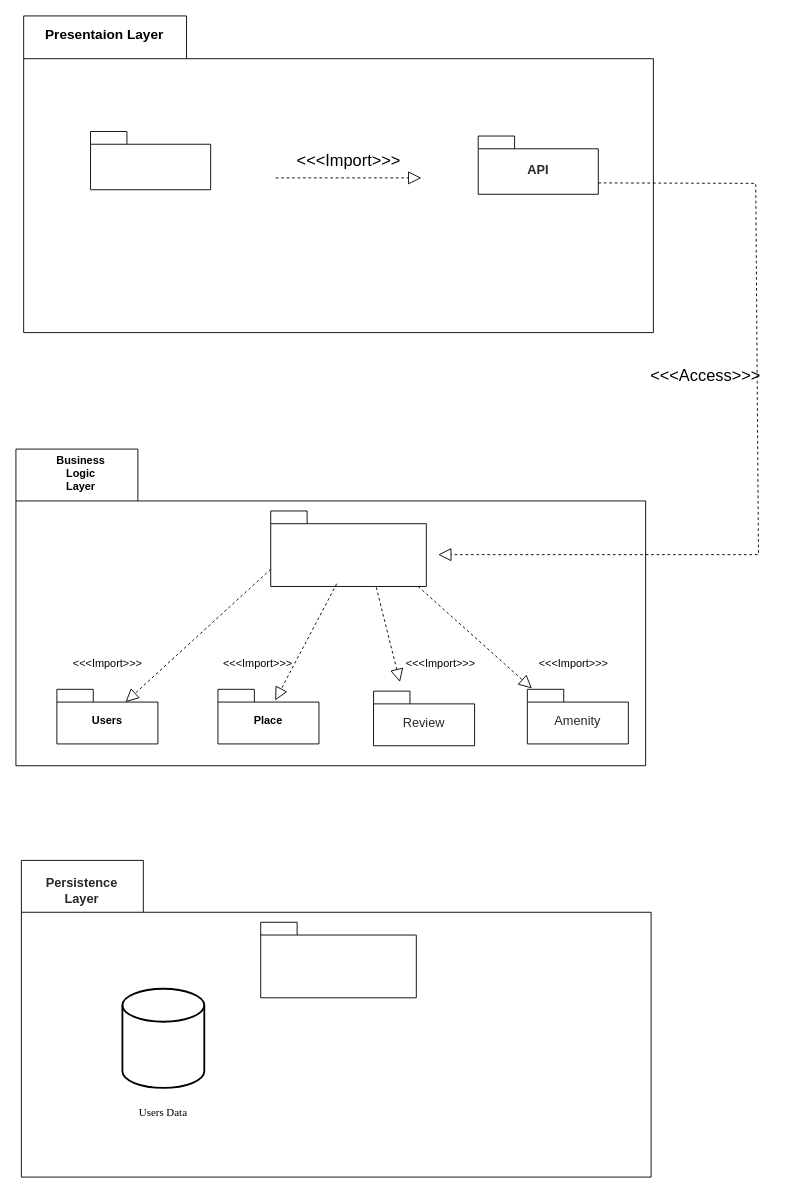
Image size: 787x1193. Some labels were removed from this diagram. Here are the shapes that lost their labels. From the top down, the box of each, then its label:
(90, 131, 211, 190): UI Layer
(270, 510, 426, 586): Facade Business Layer
(260, 921, 416, 998): Facade Data Access Layer
